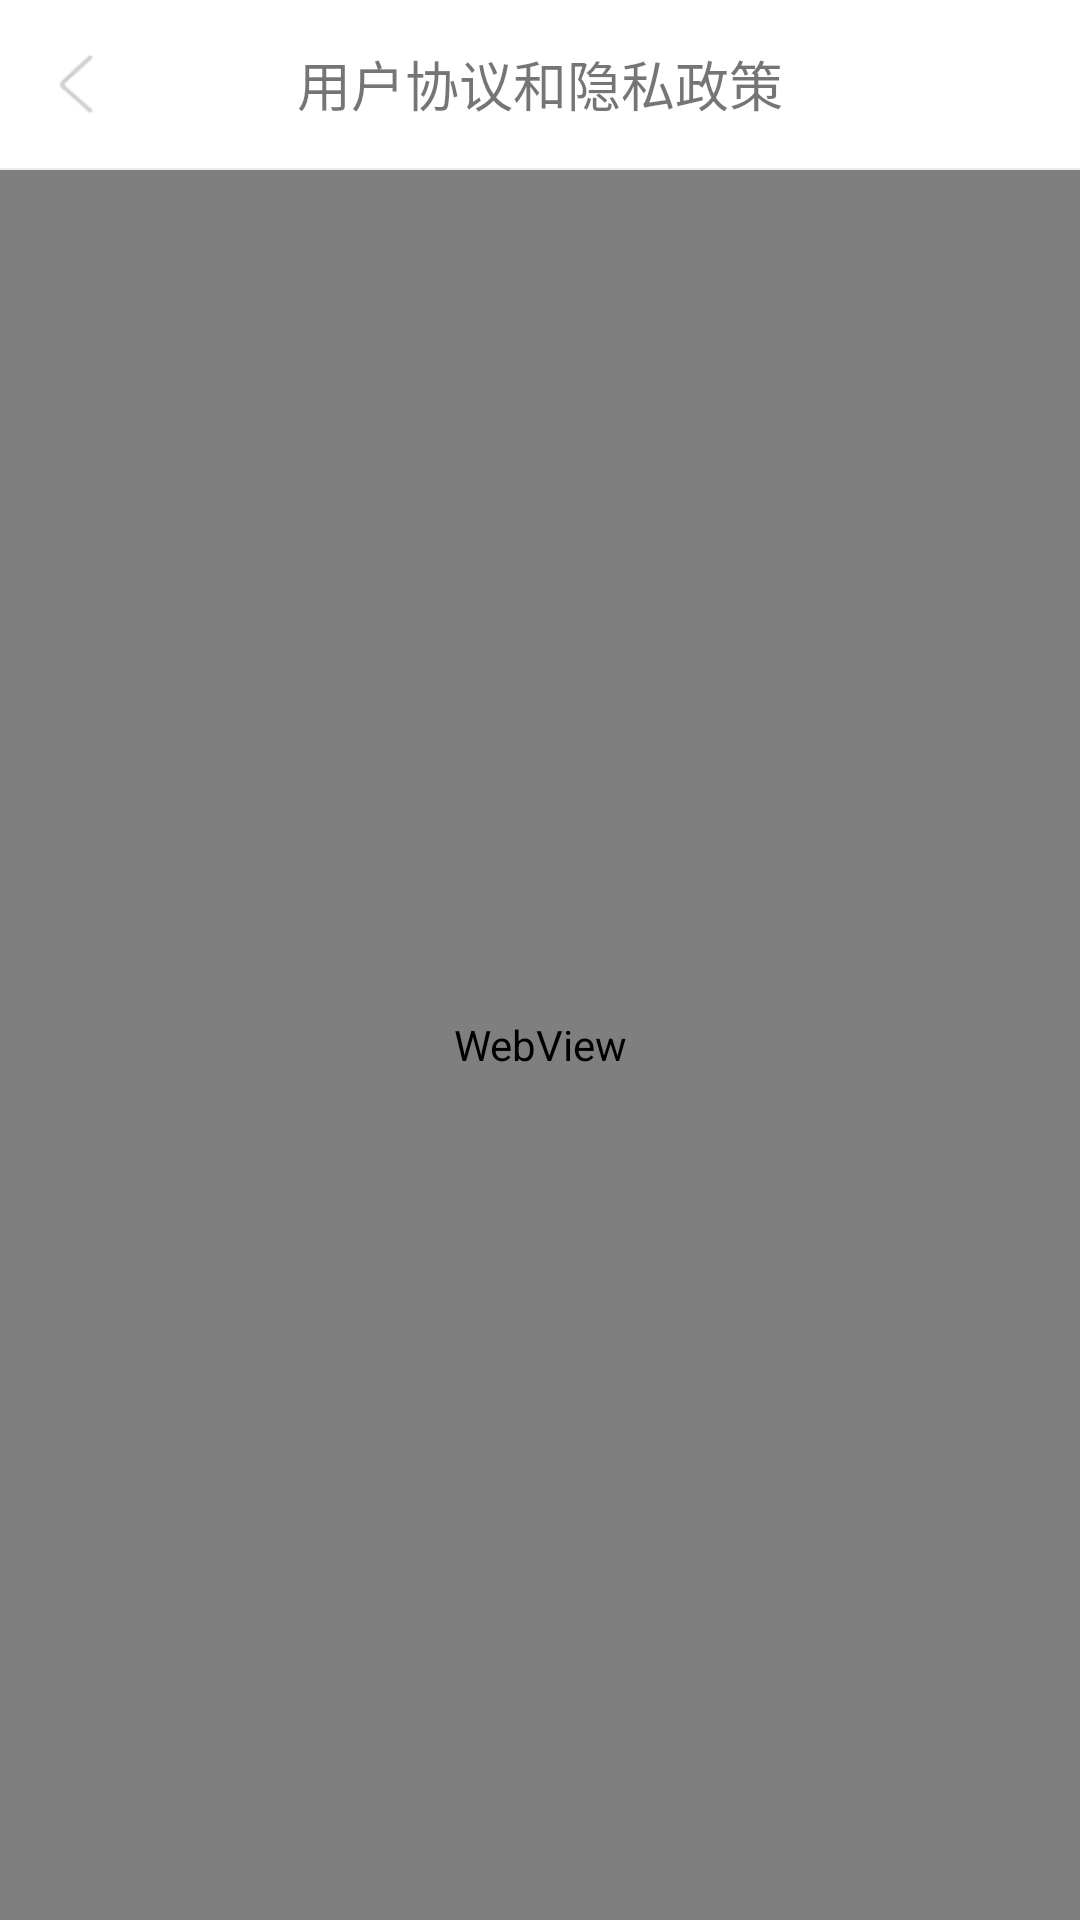

Named icons in this screenshot (1080px x 1920px) and their centers, (x=x, y=y):
back: (x=76, y=84)
